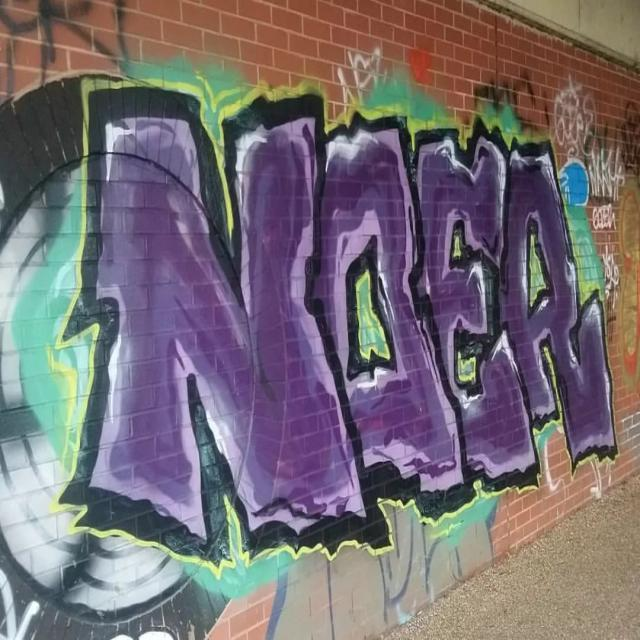nonspitting: (56, 75, 620, 575), (0, 73, 236, 639), (550, 81, 640, 231), (0, 0, 130, 73), (597, 245, 621, 302)
